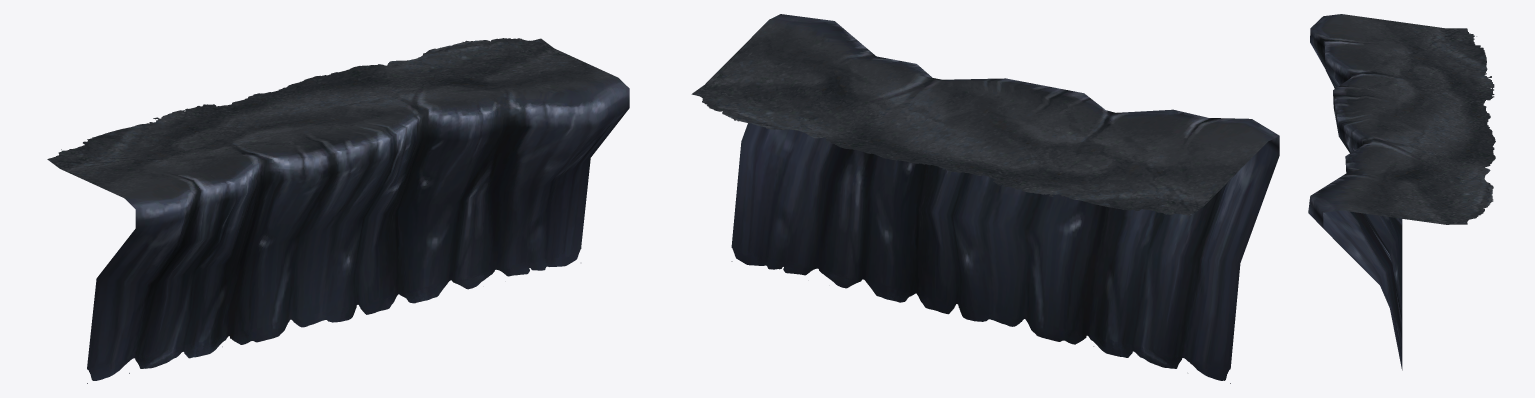
File: mine_trim_straight_01.fbx
The picture shows the model from 3 angles, left to right: view 1: azimuth 30°, elevation 25°; view 2: azimuth 150°, elevation 25°; view 3: azimuth 270°, elevation 25°; orthographic projection. The views are drawn at different scales.
Parts seen in each view (by area): view 1: mine_tileset/mine_trim_01_mat; view 2: mine_tileset/mine_trim_01_mat; view 3: mine_tileset/mine_trim_01_mat.
Part boxes in pixels (x1,y1,x2,y2): mine_tileset/mine_trim_01_mat: [47, 38, 629, 383]; mine_tileset/mine_trim_01_mat: [691, 14, 1279, 383]; mine_tileset/mine_trim_01_mat: [1308, 14, 1495, 370].
Size of the model in its own units: 4 by 1.65 by 1.83.
